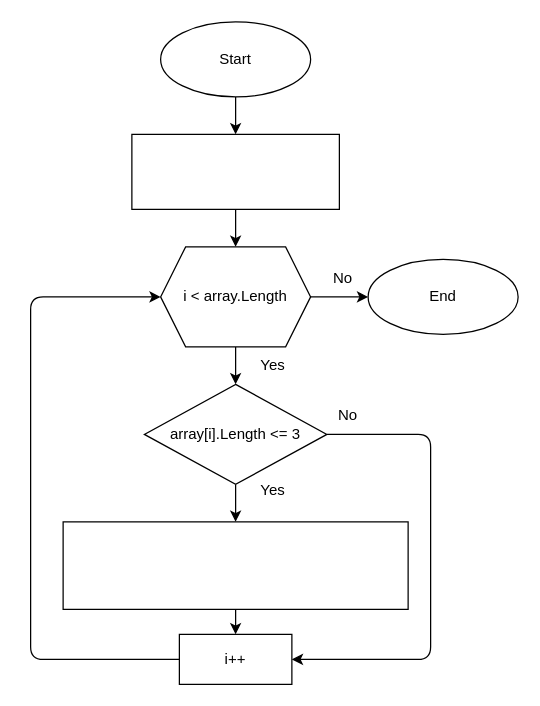
The diagram is 540 pixels wide and 706 high, and some of its shapes have lost their labels. The shapes that lost their labels are listed below. From the top down, each one's centre as x and y in pixels, then its label:
At (235,171): "string[] array string[] result i = 0".
At (235,565): "Array.Resize(ref result, result.Length + 1) result[result.Length - 1] = array[i[".
